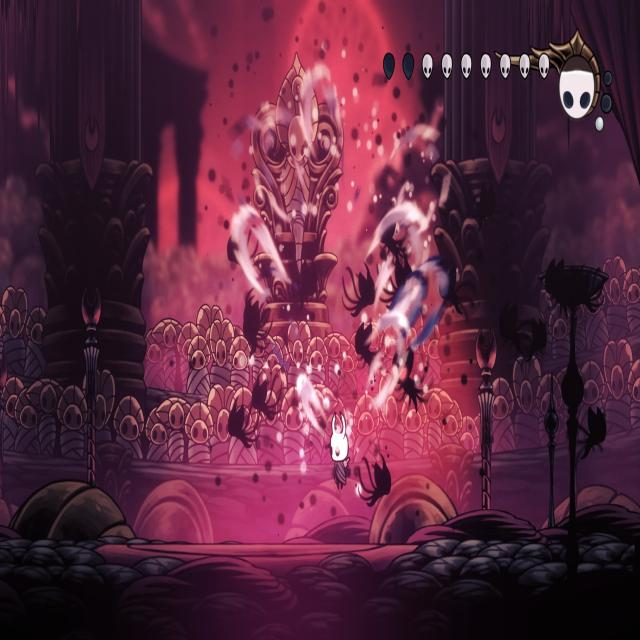Player: (325, 406, 353, 493)
Staggered_Grimm: (391, 344, 434, 416)
